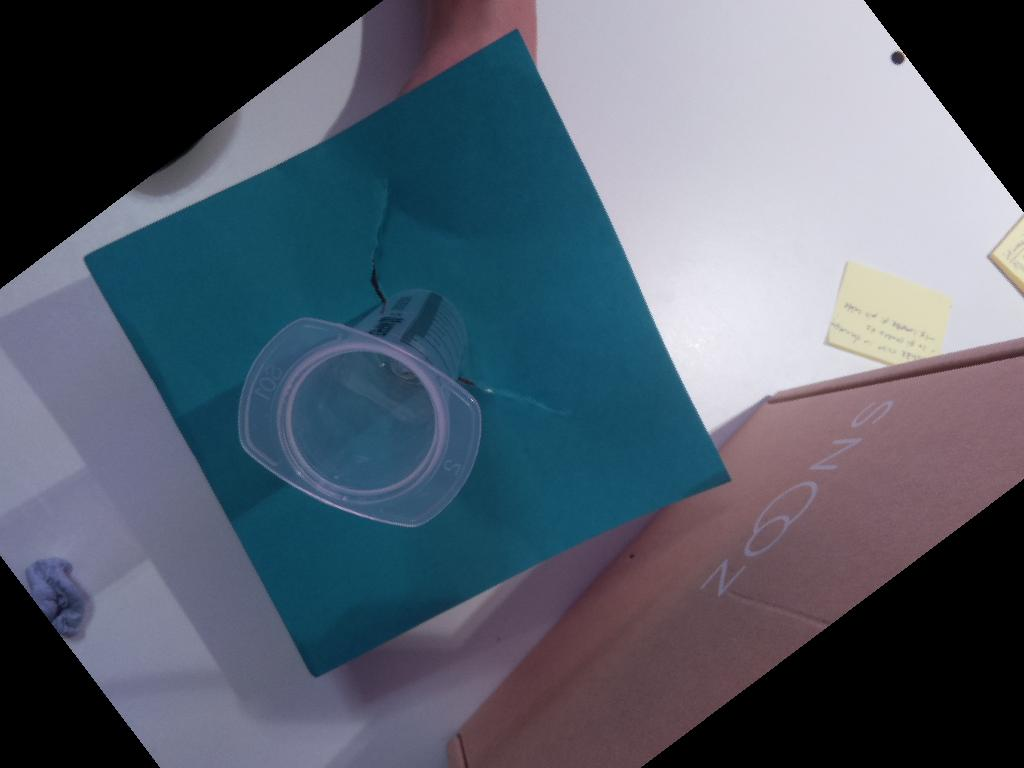clean: (234, 311, 487, 533)
